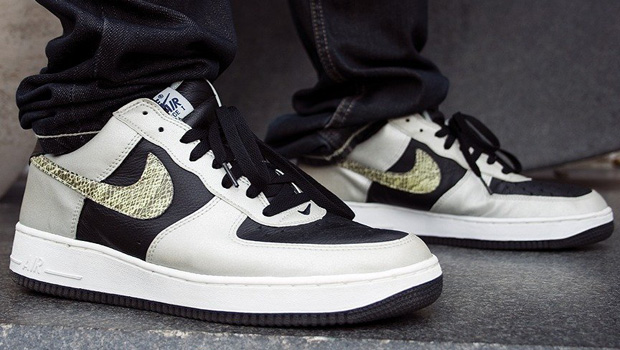nike: (37, 150, 174, 219), (346, 153, 444, 197)
